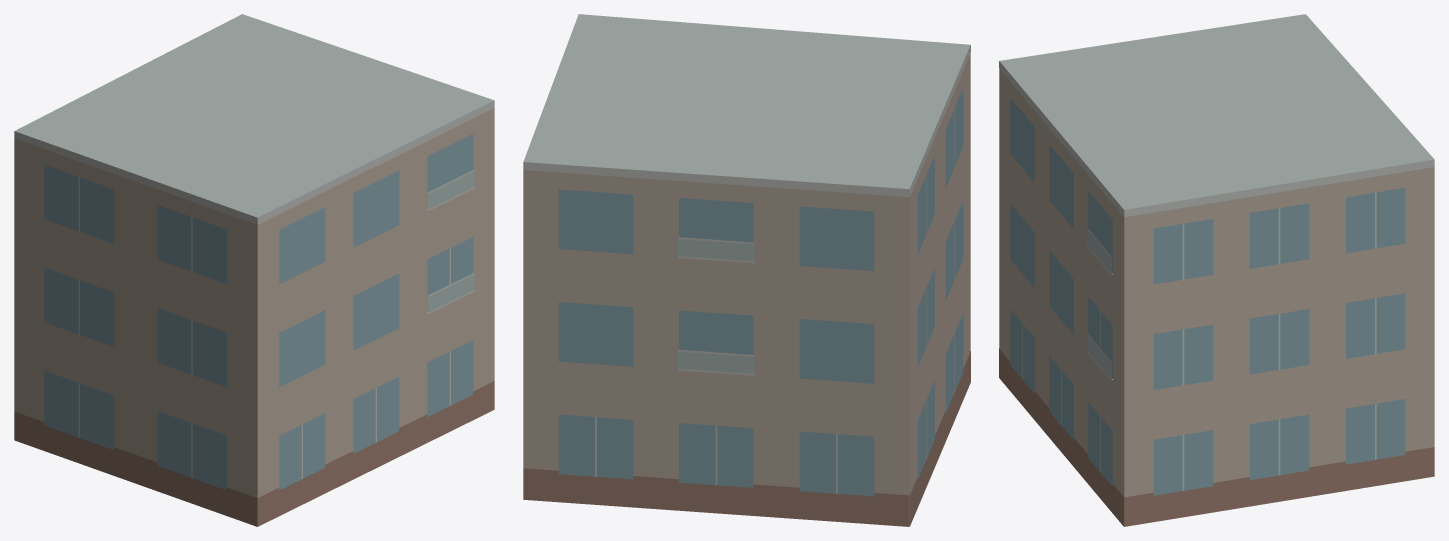
Rendered from survey-upis-32584547.glb.
The picture shows the model from 3 angles, left to right: view 1: azimuth 30°, elevation 25°; view 2: azimuth 150°, elevation 25°; view 3: azimuth 270°, elevation 25°; orthographic projection. The views are drawn at different scales.
Visible parts, largest first — view 1: survey-upis-32584547.tmp; view 2: survey-upis-32584547.tmp; view 3: survey-upis-32584547.tmp.
Part boxes in pixels (x1=…): survey-upis-32584547.tmp: x1=14, y1=14, x2=494, y2=526; survey-upis-32584547.tmp: x1=523, y1=14, x2=970, y2=526; survey-upis-32584547.tmp: x1=999, y1=14, x2=1434, y2=526.
Bounding box in the file's own units: 13.66 × 10.3 × 12.84.
